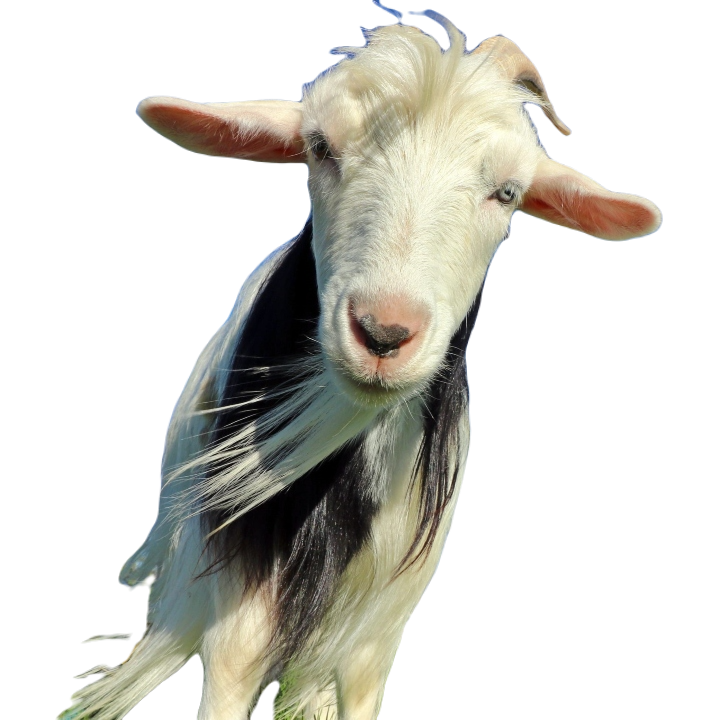Goat: (58, 6, 661, 716)
